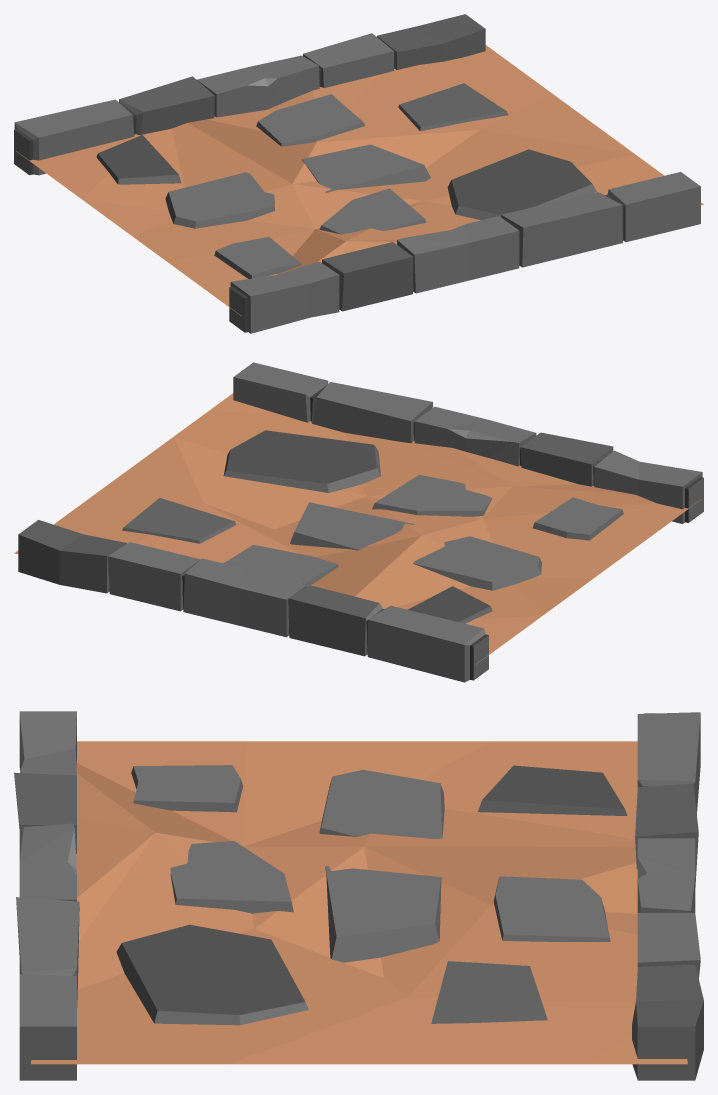
The model's file is road_02.fbx.
3 renders of one model, top to bottom at view 1: azimuth 30°, elevation 25°; view 2: azimuth 150°, elevation 25°; view 3: azimuth 270°, elevation 25°, orthographic. The views are drawn at different scales.
Parts seen in each view (by area): view 1: road_02; view 2: road_02; view 3: road_02.
Boxes of the visible parts, x1,y1,x2,y2 form: road_02: (14, 14, 703, 333); road_02: (14, 362, 703, 682); road_02: (14, 711, 703, 1080).
Bounding box in the file's own units: 3.77 × 0.3524 × 3.4.
